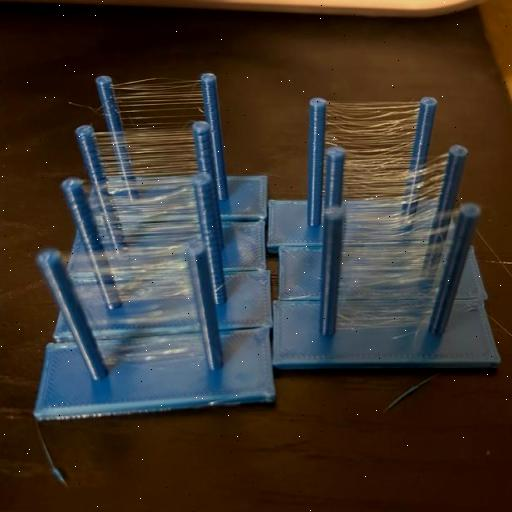stringing: (346, 168, 444, 206), (348, 231, 446, 267), (103, 180, 189, 218), (338, 106, 409, 150), (124, 133, 188, 172), (124, 83, 195, 118)
